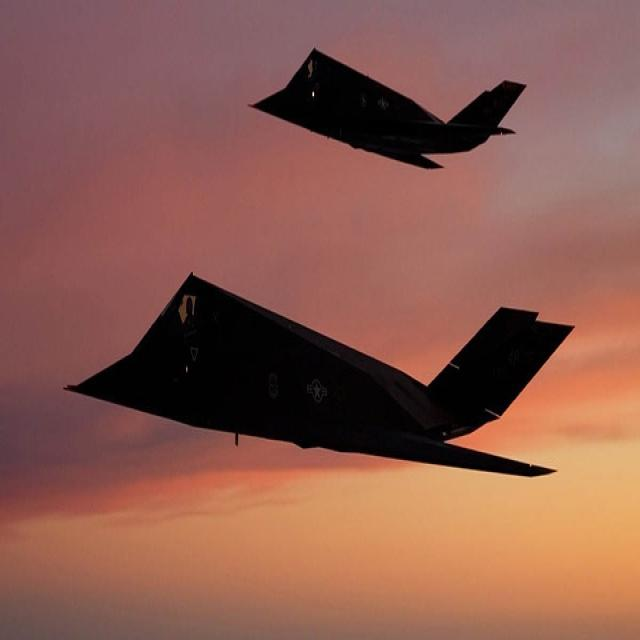F117: (14, 244, 595, 544), (244, 16, 548, 198)
